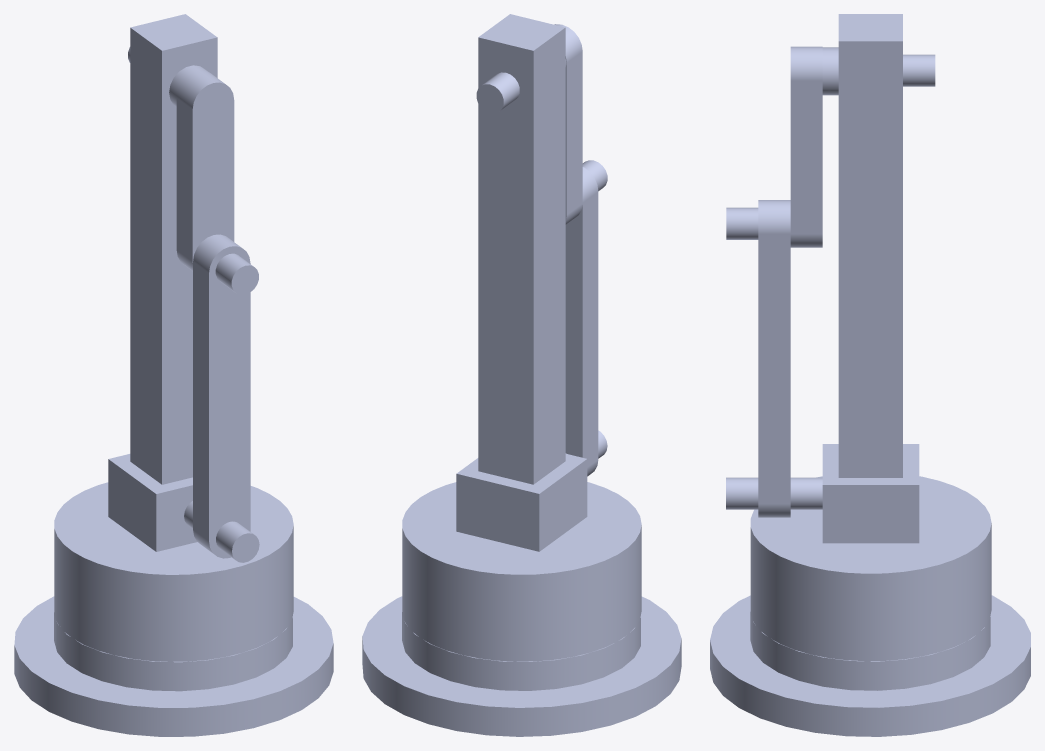
3 views of the same model, side by side, from view 1: azimuth 30°, elevation 25°; view 2: azimuth 150°, elevation 25°; view 3: azimuth 270°, elevation 25° (orthographic).
Visible parts, largest first — view 1: 凸台-拉伸7, 凸台-拉伸3 (×2), 凸台-拉伸1; view 2: 凸台-拉伸7, 凸台-拉伸3 (×2), 凸台-拉伸1; view 3: 凸台-拉伸7, 凸台-拉伸3 (×2), 凸台-拉伸1.
Part boxes in pixels (x1,y1,x2,y2): 凸台-拉伸7: (14, 14, 333, 736); 凸台-拉伸3 (×2): (54, 47, 293, 661); 凸台-拉伸1: (193, 234, 250, 558); 凸台-拉伸7: (362, 14, 681, 736); 凸台-拉伸3 (×2): (402, 24, 641, 661); 凸台-拉伸1: (565, 167, 598, 476); 凸台-拉伸7: (710, 14, 1030, 736); 凸台-拉伸3 (×2): (726, 46, 991, 661); 凸台-拉伸1: (758, 200, 790, 517).
Size of the model in its own units: 2.36 by 5.2 by 2.36.
